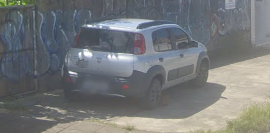car: (59, 18, 215, 109)
